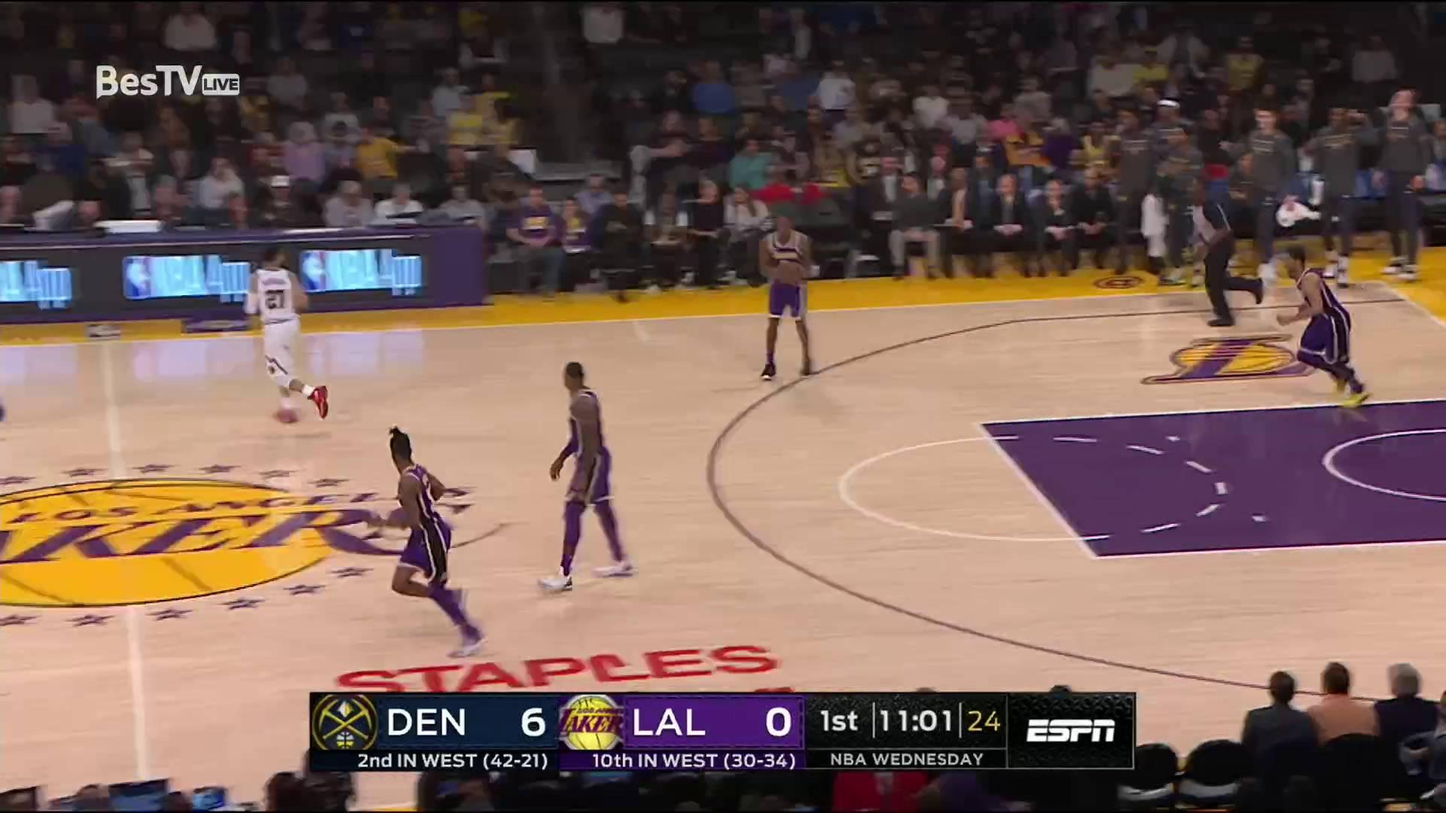basketball: (776, 262, 802, 286)
